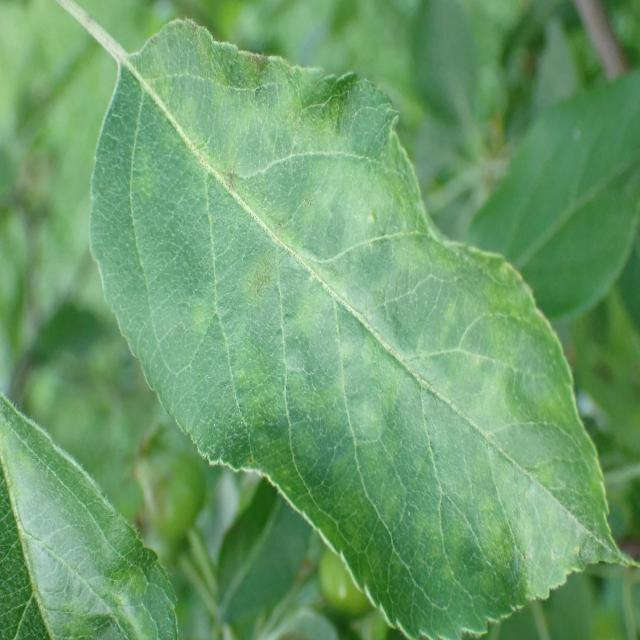scab: (133, 14, 608, 592)
